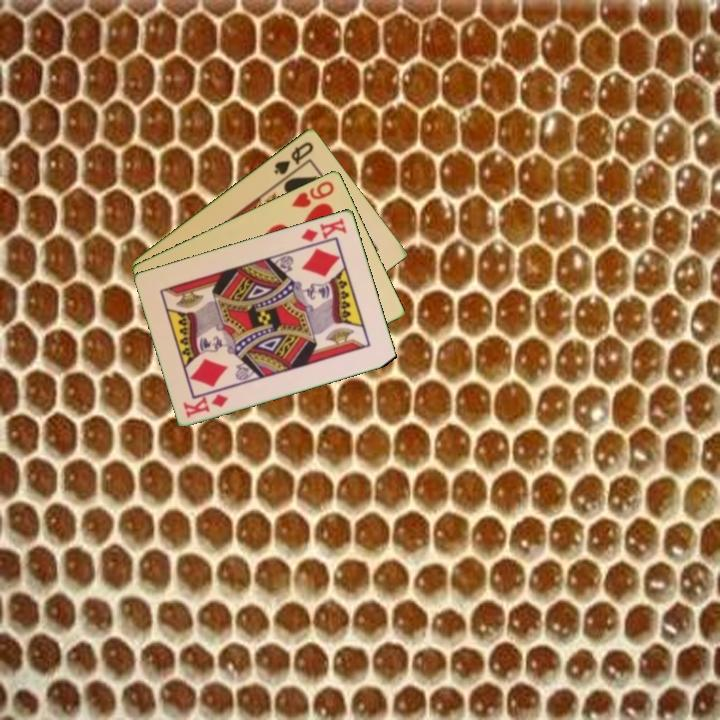9h: (288, 177, 337, 210)
Kd: (298, 214, 350, 250), (180, 390, 231, 420)
Qs: (270, 138, 317, 177)
